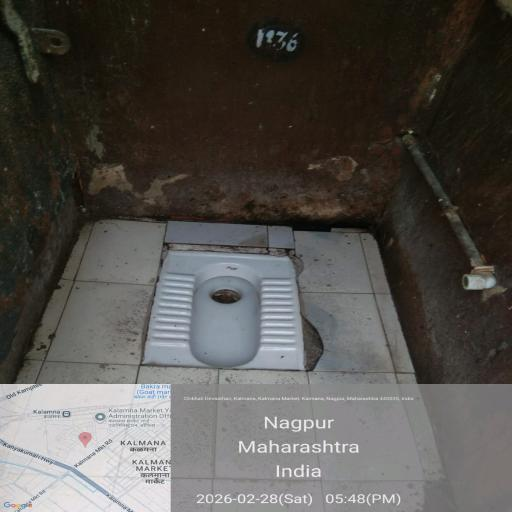clean_indian: (139, 224, 330, 382)
partial_dirty_floor: (56, 211, 447, 512), (60, 34, 463, 208)
